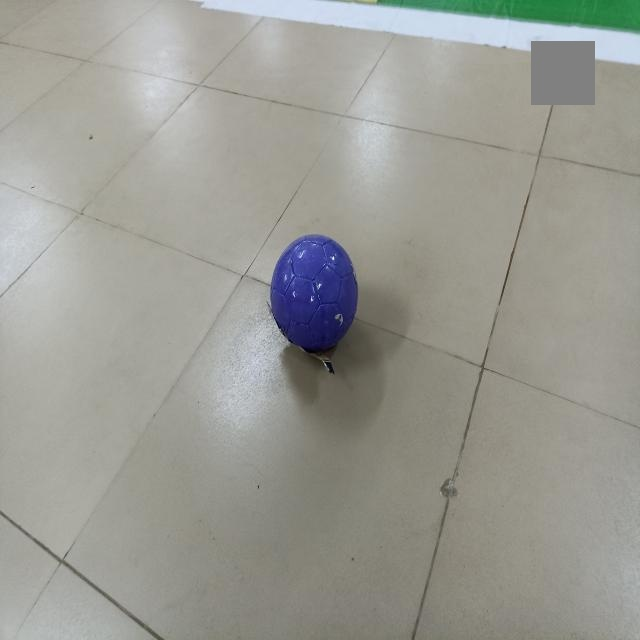purple_ball: (274, 231, 358, 357)
